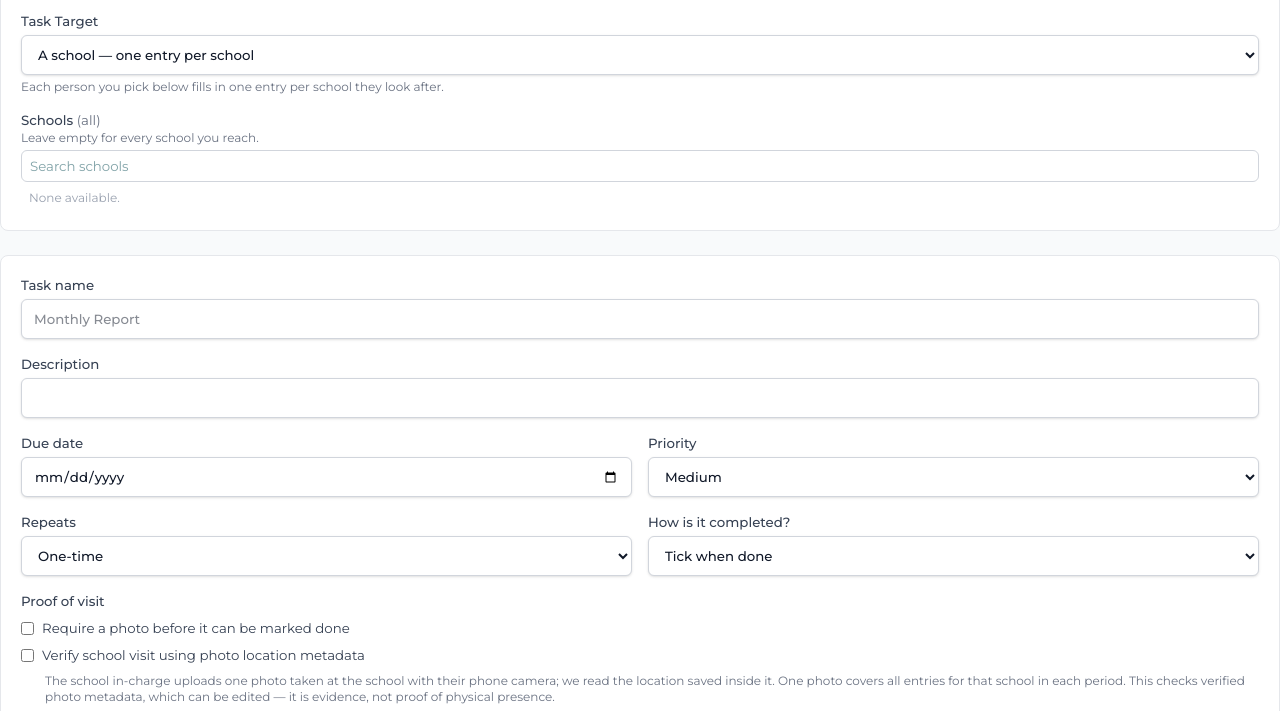
Test: TrackerBuilder — who fills this in › a school task still picks people, and reports entries rather than people
In the field with placeholder "Monthly Report": (640, 319) [21, 299, 1259, 339], type "Visit"
(page scrolled)
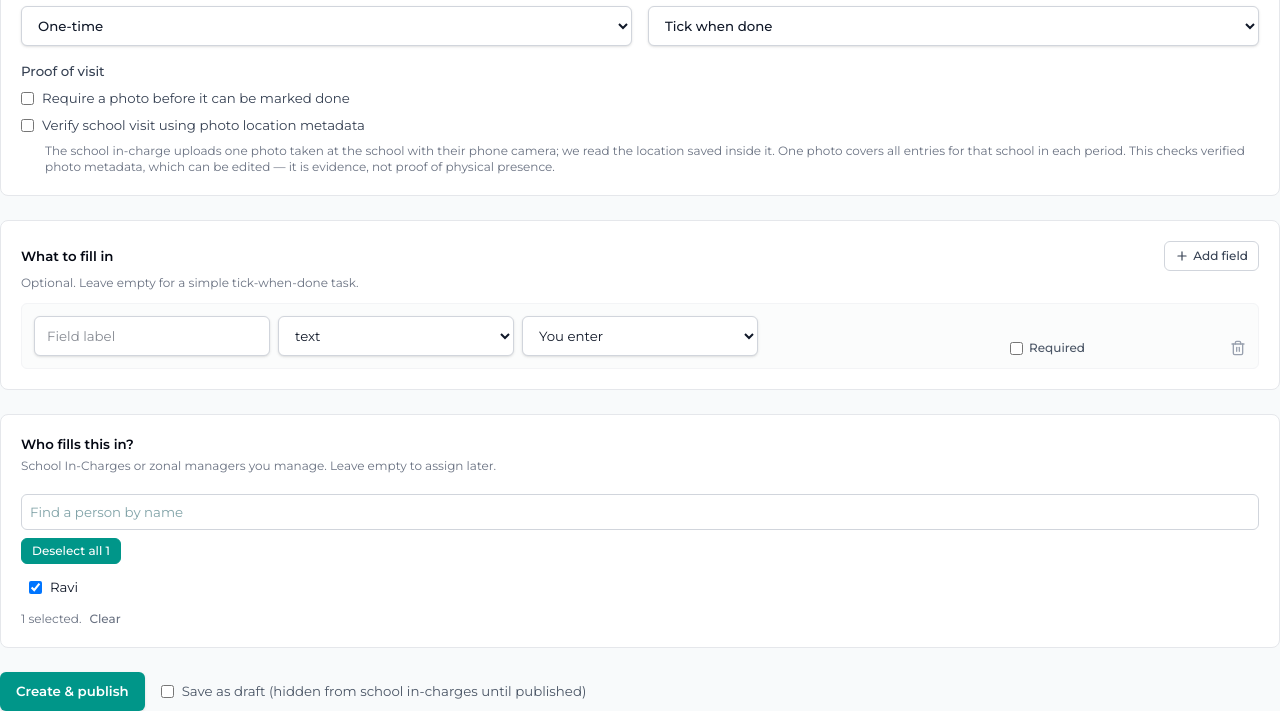
Expected: the checkbox labelled "Ravi" is shown, [29, 581, 42, 594]
Click the button "Create & publish": (72, 692) [0, 672, 145, 710]
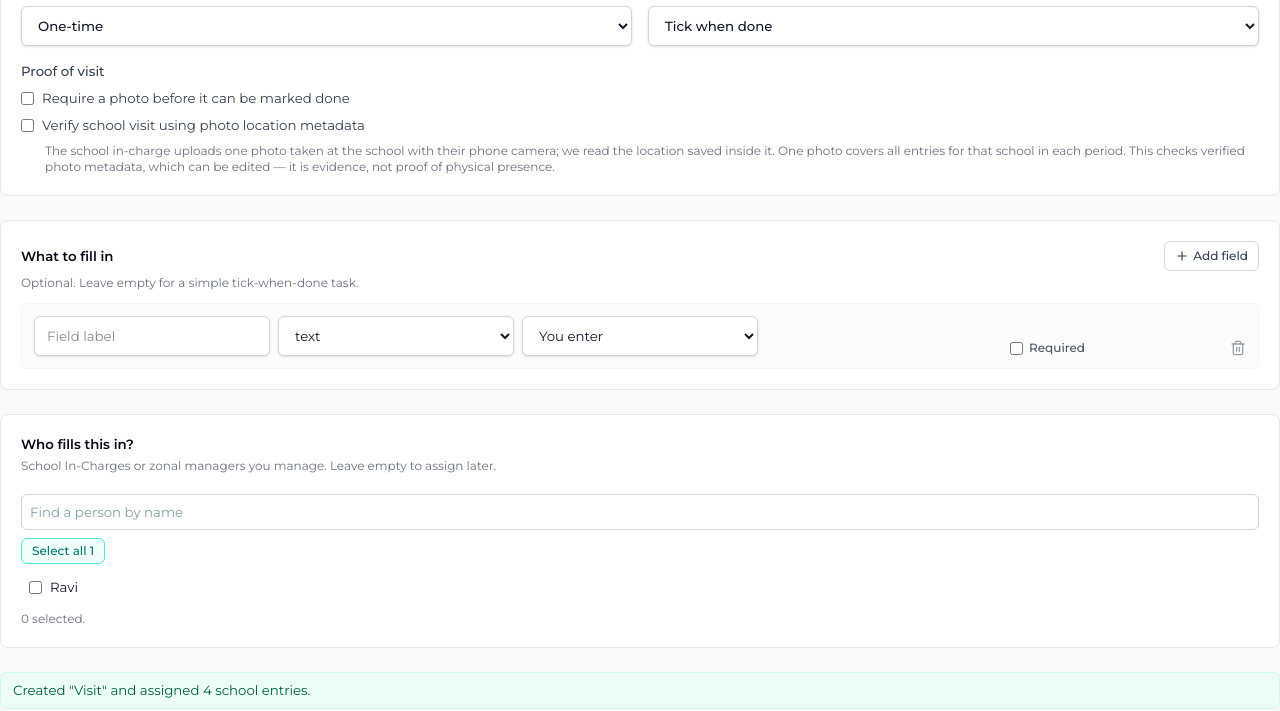
Expected: the text "Created \"Visit\" and assigned 4 school entries." is shown, [0, 672, 1279, 709]
